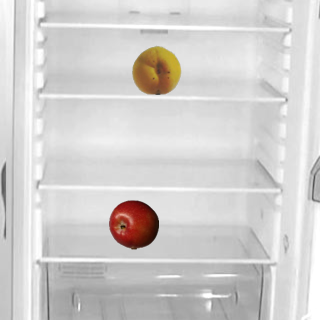Apple Braeburn: (108, 199, 158, 249)
Peach 2: (131, 44, 181, 94)
